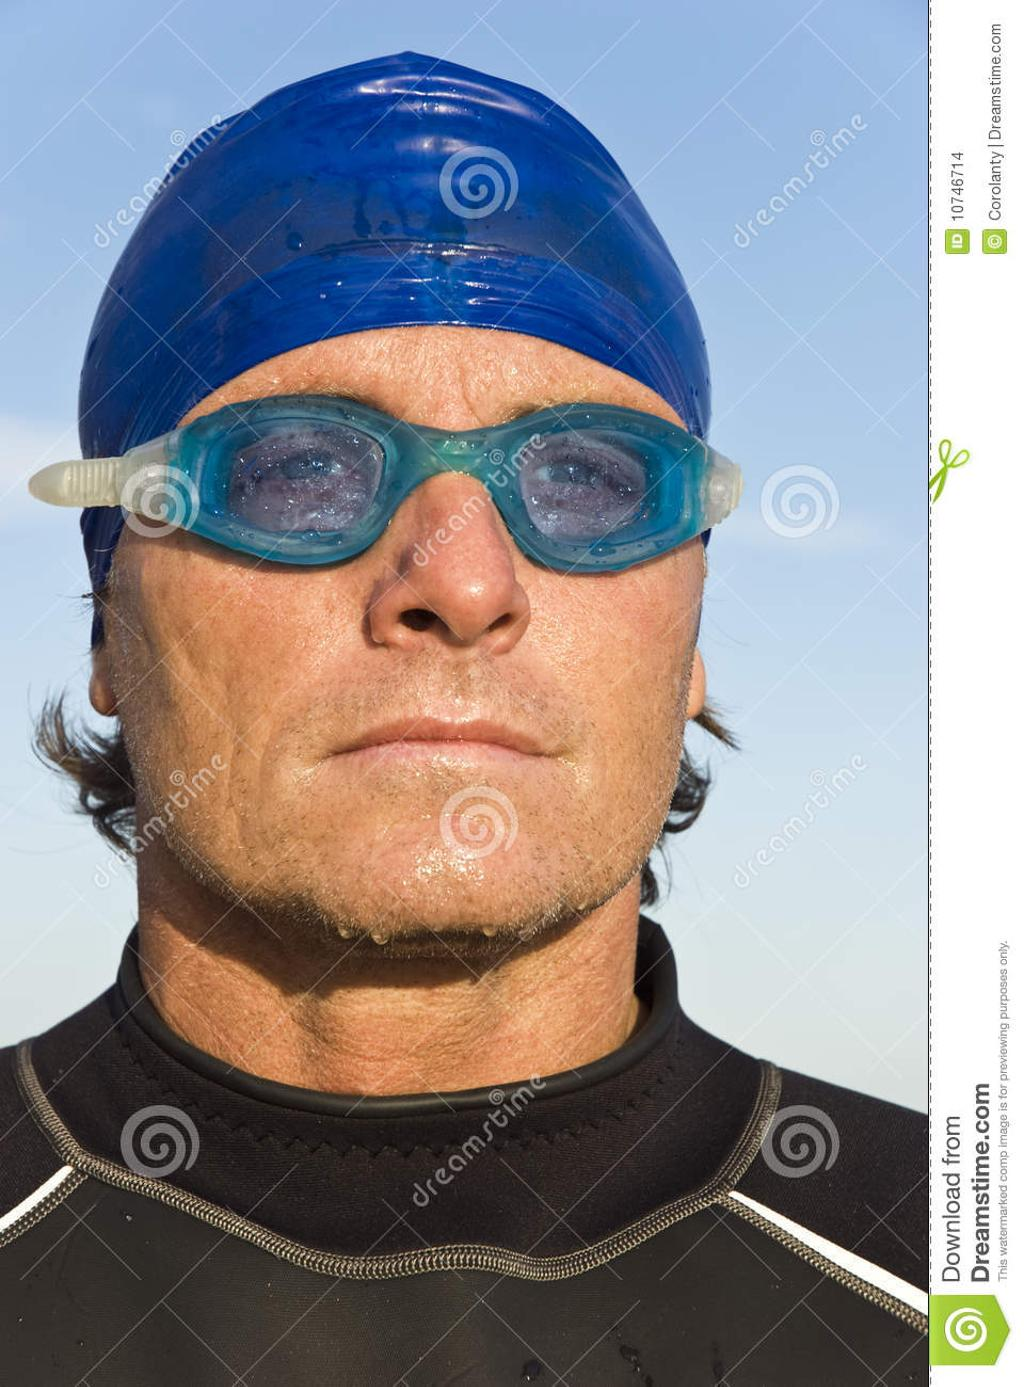face: (106, 295, 697, 929)
